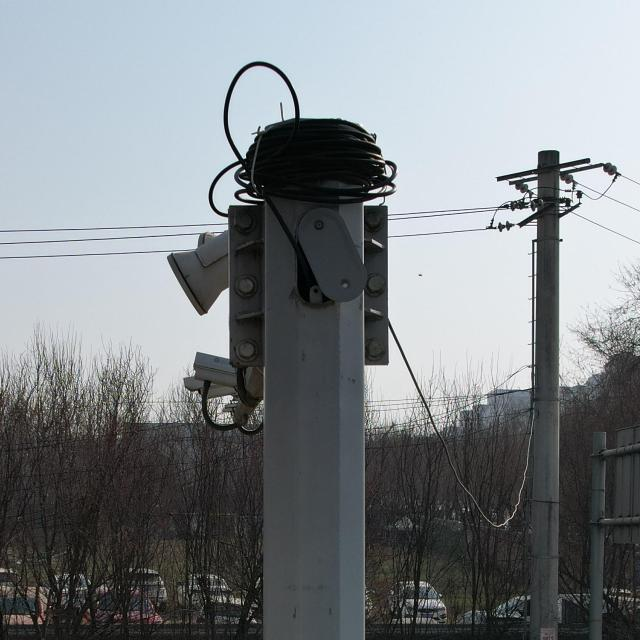blur bolt: (234, 212, 254, 231), (364, 211, 384, 230)
bolt head: (238, 340, 256, 360), (237, 277, 255, 296), (365, 340, 384, 358), (366, 274, 384, 293)
